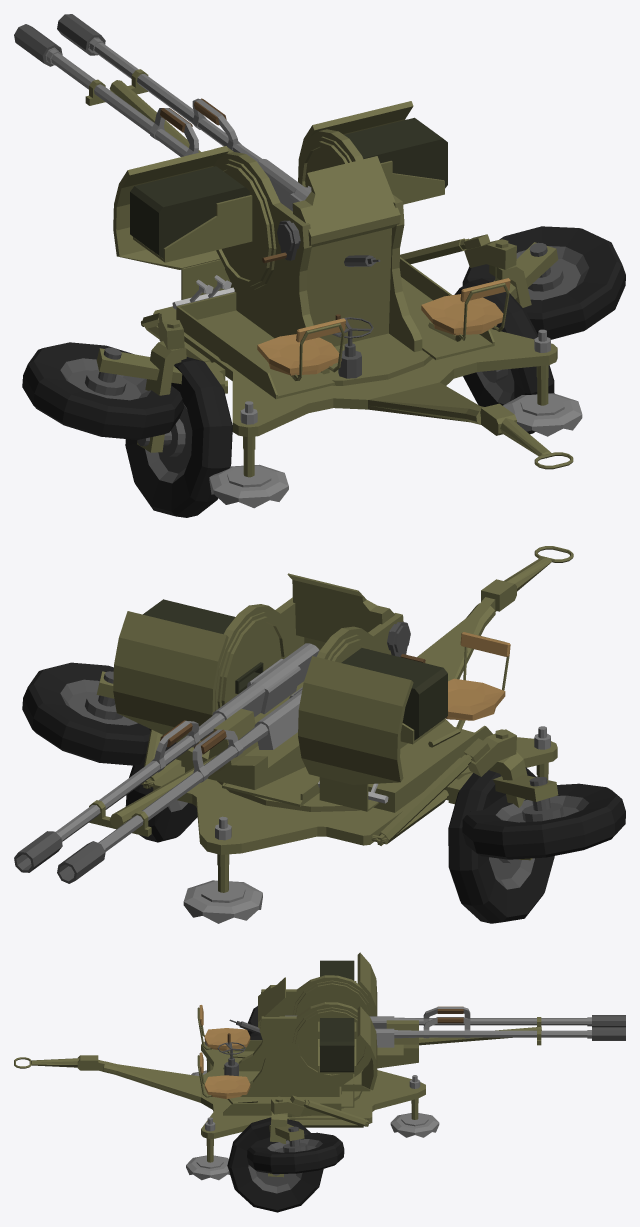
3 renders of one model, top to bottom at view 1: azimuth 30°, elevation 25°; view 2: azimuth 150°, elevation 25°; view 3: azimuth 270°, elevation 25°, orthographic. The views are drawn at different scales.
Visible parts, largest first — view 1: Turret, Canons, Weels_UP, ZU23, L_Weel, Mag_L, Weels_Down, Mag_R, R_Weel, Left_Right, Up_Down, Trigger; view 2: Canons, Weels_UP, Turret, ZU23, L_Weel, Weels_Down, Mag_L, Mag_R, R_Weel, Up_Down; view 3: Canons, Turret, ZU23, Weels_UP, R_Weel, Mag_R, Weels_Down, Mag_L, Left_Right.
Boxes of the visible parts, bbox=[...] form: Turret: bbox=[176, 129, 510, 399]; Canons: bbox=[14, 14, 444, 289]; Weels_UP: bbox=[22, 226, 625, 439]; ZU23: bbox=[153, 306, 582, 508]; L_Weel: bbox=[125, 357, 232, 517]; Mag_L: bbox=[130, 166, 249, 258]; Weels_Down: bbox=[137, 234, 531, 452]; Mag_R: bbox=[344, 117, 447, 188]; R_Weel: bbox=[454, 278, 554, 434]; Left_Right: bbox=[332, 314, 373, 378]; Up_Down: bbox=[262, 220, 300, 263]; Trigger: bbox=[172, 275, 234, 309]; Canons: bbox=[14, 611, 444, 883]; Weels_UP: bbox=[22, 662, 625, 859]; Turret: bbox=[176, 573, 510, 812]; ZU23: bbox=[153, 546, 573, 923]; L_Weel: bbox=[448, 767, 554, 923]; Weels_Down: bbox=[141, 729, 532, 860]; Mag_L: bbox=[341, 648, 447, 740]; Mag_R: bbox=[143, 599, 263, 693]; R_Weel: bbox=[125, 728, 197, 842]; Up_Down: bbox=[387, 622, 425, 662]; Canons: bbox=[285, 952, 625, 1090]; Turret: bbox=[197, 975, 373, 1117]; ZU23: bbox=[14, 1041, 439, 1180]; Weels_UP: bbox=[247, 1006, 368, 1173]; R_Weel: bbox=[227, 1117, 323, 1212]; Mag_R: bbox=[320, 1018, 354, 1072]; Weels_Down: bbox=[268, 1095, 369, 1177]; Mag_L: bbox=[320, 960, 354, 980]; Left_Right: bbox=[217, 1033, 245, 1075].
Bounding box in the file's own units: 423 × 207 × 649.
1 material, 1 textured.
